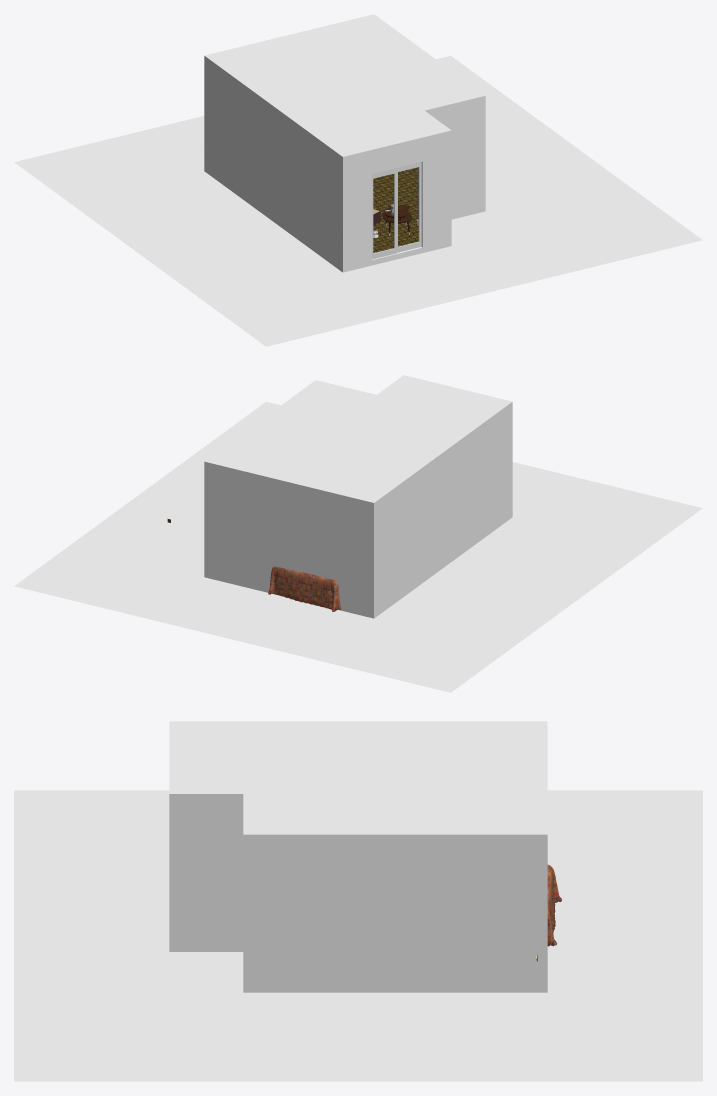
File: bedroom.gltf
3 views of the same model, one above another, from view 1: azimuth 30°, elevation 25°; view 2: azimuth 150°, elevation 25°; view 3: azimuth 270°, elevation 25° (orthographic). The views are drawn at different scales.
Parts seen in each view (by area): view 1: Object_29, Object_53, Object_36, Object_2; view 2: Object_29, Object_53, Object_41; view 3: Object_29, Object_53, Object_41.
Boxes of the visible parts, x1,y1,x2,y2 form: Object_29: (14,55,702,346); Object_53: (204,14,485,272); Object_36: (373,167,418,252); Object_2: (371,162,421,259); Object_29: (14,401,702,692); Object_53: (204,375,512,618); Object_41: (268,566,341,611); Object_29: (14,790,702,1081); Object_53: (169,721,547,992); Object_41: (547,864,561,946).
Bounding box in the file's own units: 10.69 × 2.73 × 10.69.
Materials: 68 (30 with a texture image).
